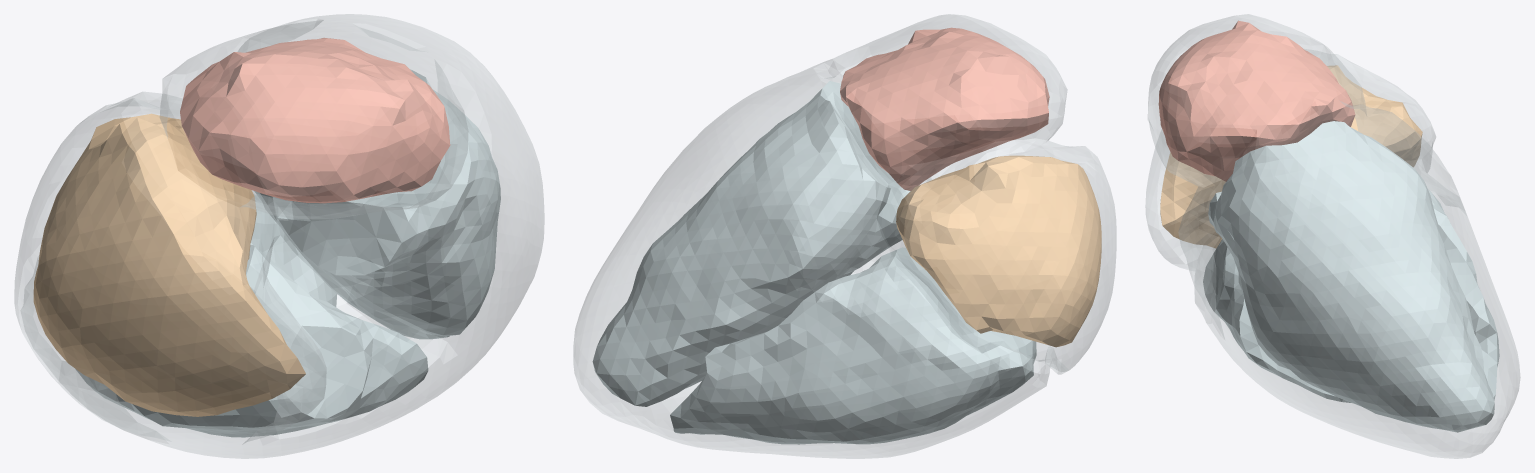
File: heart-four-chamber-P.glb
3 renders of one model, left to right at view 1: azimuth 30°, elevation 25°; view 2: azimuth 150°, elevation 25°; view 3: azimuth 270°, elevation 25°, orthographic. The views are drawn at different scales.
Visible parts, largest first — view 1: epicardium, right_atrium, left_atrium, left_ventricle, right_ventricle; view 2: epicardium, left_ventricle, right_ventricle, right_atrium, left_atrium; view 3: epicardium, left_ventricle, left_atrium, right_atrium, right_ventricle.
Boxes of the visible parts, x1,y1,x2,y2 form: epicardium: (14,14,544,458); right_atrium: (33,113,305,416); left_atrium: (180,37,450,203); left_ventricle: (254,69,500,339); right_ventricle: (75,194,428,437); epicardium: (573,14,1116,458); left_ventricle: (592,81,910,406); right_ventricle: (670,247,1036,444); right_atrium: (896,155,1101,347); left_atrium: (840,27,1049,190); epicardium: (1145,14,1520,458); left_ventricle: (1208,121,1494,432); left_atrium: (1158,20,1355,181); right_atrium: (1160,65,1422,248); right_ventricle: (1203,189,1499,402).
Size of the model in its own units: 154 by 121 by 122.
